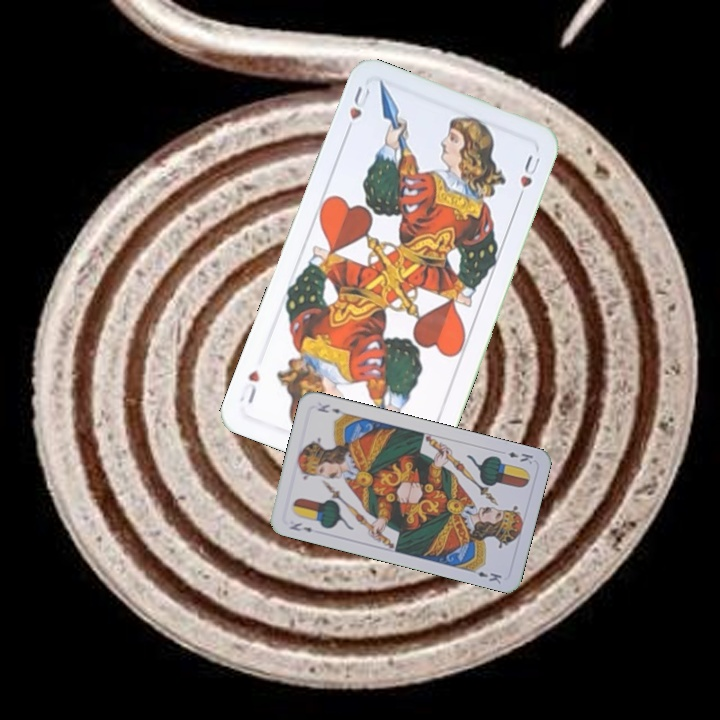EK: (504, 448, 536, 467), (285, 518, 314, 535)
HU: (341, 82, 374, 138)
